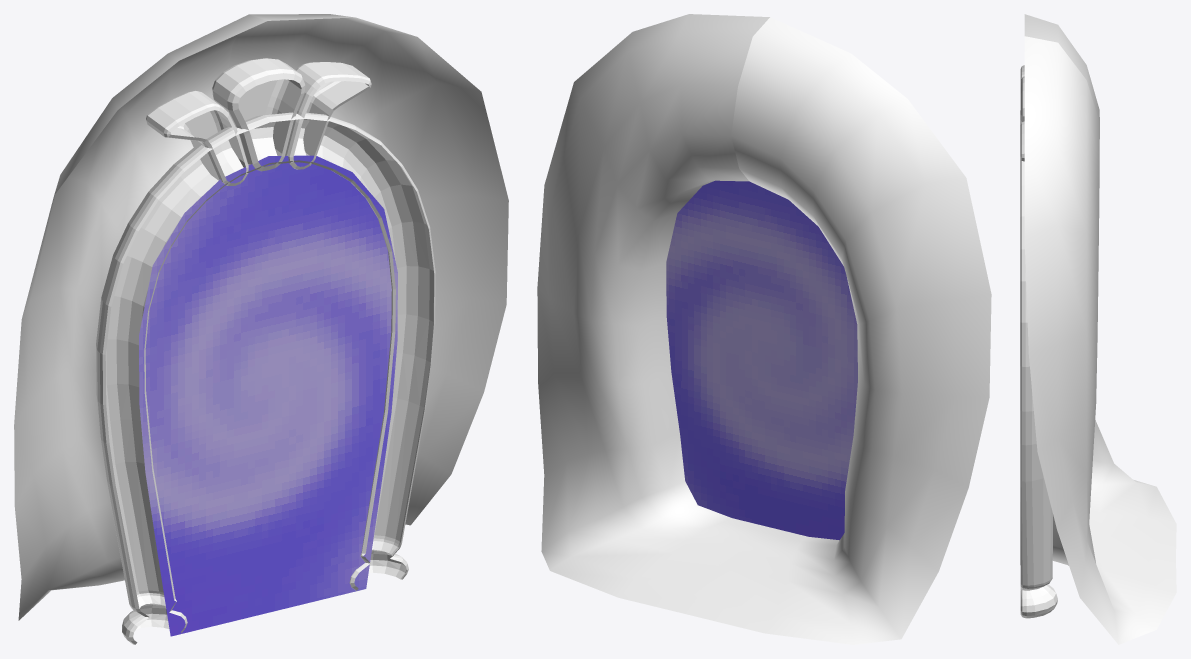
File: Portal_Purple2.fbx
3 renders of one model, left to right at view 1: azimuth 30°, elevation 25°; view 2: azimuth 150°, elevation 25°; view 3: azimuth 270°, elevation 25°, orthographic. The views are drawn at different scales.
Visible parts, largest first — view 1: m_wizard_portal_02, ms_pfx_Teleport_1, m_wizard_portal_01; view 2: ms_pfx_Teleport_1, m_wizard_portal_02; view 3: ms_pfx_Teleport_1, m_wizard_portal_01.
Boxes of the visible parts, x1,y1,x2,y2 form: m_wizard_portal_02: [139, 155, 397, 636]; ms_pfx_Teleport_1: [14, 14, 508, 620]; m_wizard_portal_01: [96, 58, 435, 644]; ms_pfx_Teleport_1: [537, 14, 991, 644]; m_wizard_portal_02: [666, 180, 857, 540]; ms_pfx_Teleport_1: [1024, 14, 1176, 644]; m_wizard_portal_01: [1020, 65, 1057, 618].
Size of the model in its own units: 1.92 by 0.595 by 2.2.
Materials: 3 (1 with a texture image).
